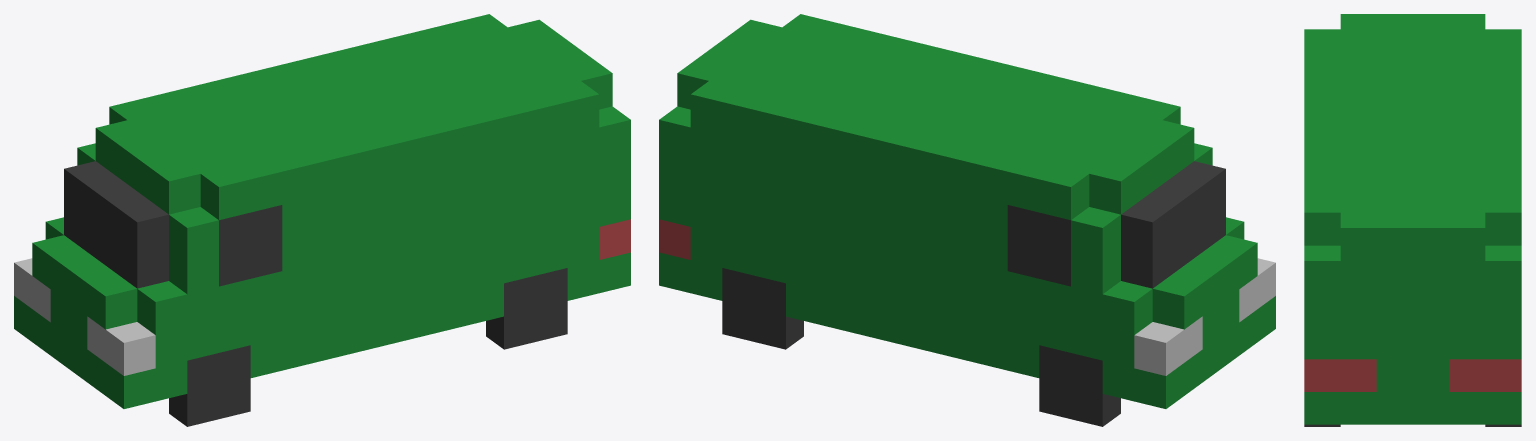
The model's file is truck-v1-green.gltf.
3 views of the same model, side by side, from view 1: azimuth 30°, elevation 25°; view 2: azimuth 150°, elevation 25°; view 3: azimuth 270°, elevation 25° (orthographic).
Visible parts, largest first — view 1: model, wheels; view 2: model, wheels; view 3: model, wheels.
Part boxes in pixels (x1,y1,x2,y2): model: [14, 14, 630, 408]; wheels: [169, 268, 567, 426]; model: [659, 14, 1275, 408]; wheels: [722, 268, 1120, 426]; model: [1304, 14, 1521, 424]; wheels: [1304, 424, 1521, 426].
Bounding box in the file's own units: 1.6 × 0.7 × 0.6.
Materials: 2 (2 with a texture image).
